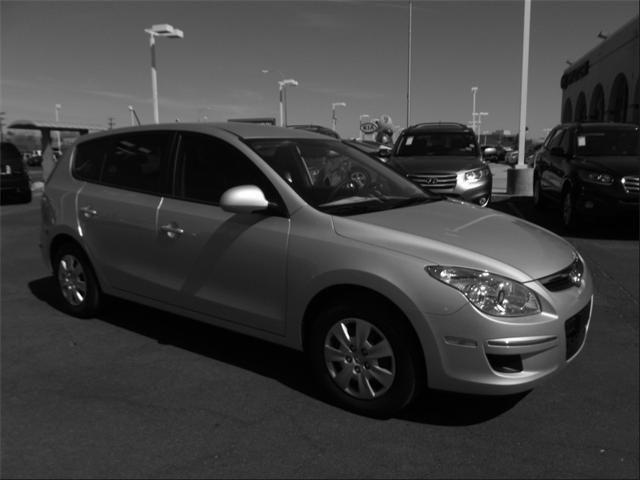car: (39, 117, 597, 417)
